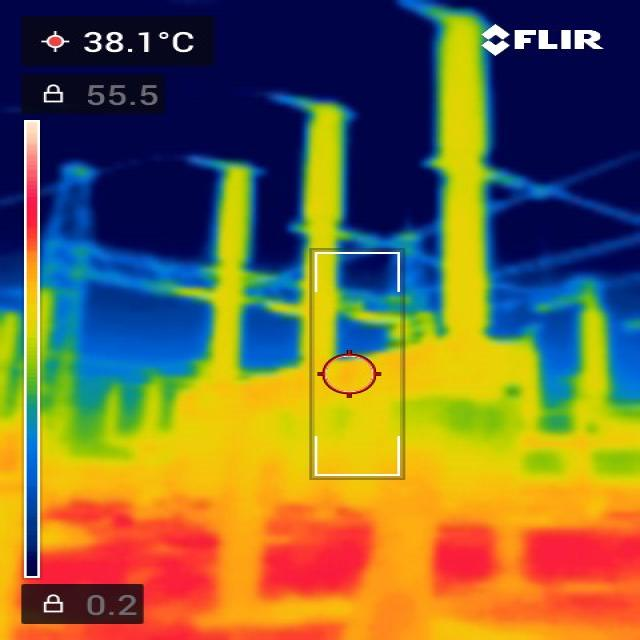Zona_Critica: (41, 503, 218, 616), (260, 518, 377, 599), (533, 534, 639, 583), (436, 516, 495, 592)
